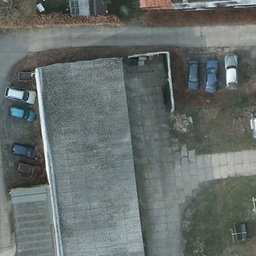car: (3, 84, 37, 105), (8, 142, 41, 161), (222, 55, 237, 90), (204, 55, 218, 91), (186, 58, 200, 91), (10, 105, 36, 122), (16, 163, 44, 176)
